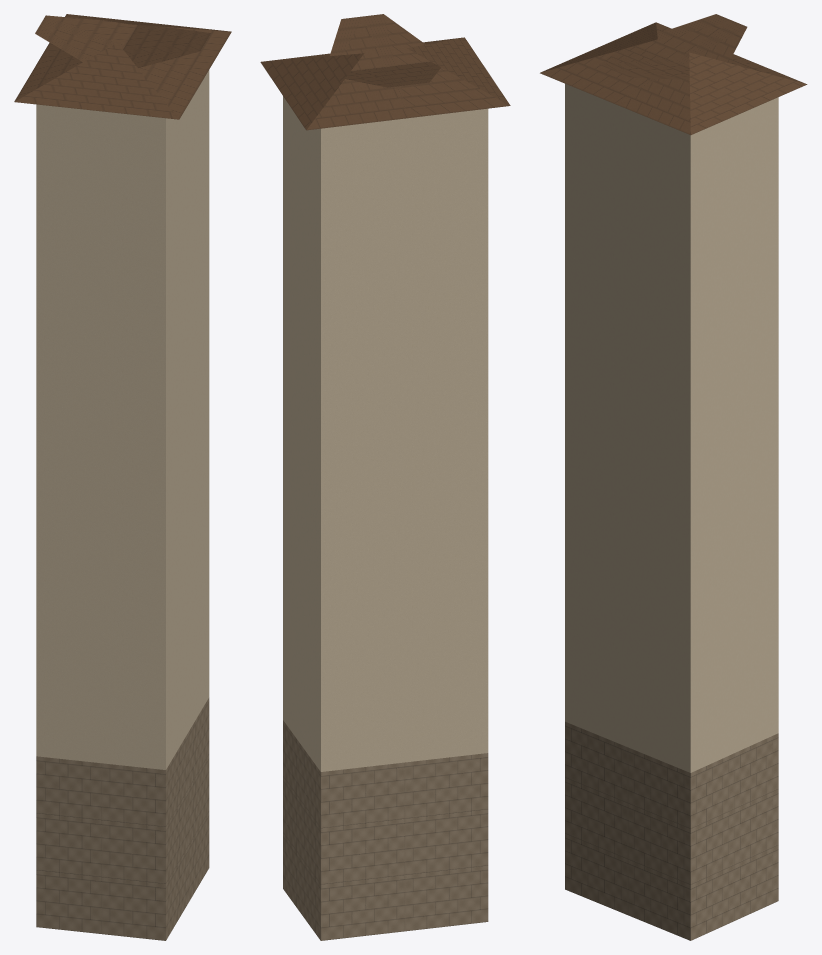
File: bld_c2_27_514.gltf
The picture shows the model from 3 angles, left to right: view 1: azimuth 30°, elevation 25°; view 2: azimuth 150°, elevation 25°; view 3: azimuth 270°, elevation 25°; orthographic projection.
Parts seen in each view (by area): view 1: bld_c2_27_514; view 2: bld_c2_27_514; view 3: bld_c2_27_514.
Part boxes in pixels (x1,y1,x2,y2): bld_c2_27_514: [14, 14, 231, 940]; bld_c2_27_514: [260, 14, 510, 940]; bld_c2_27_514: [540, 14, 807, 940].
Size of the model in its own units: 7.36 by 25.8 by 7.39.
Materials: 3 (3 with a texture image).
